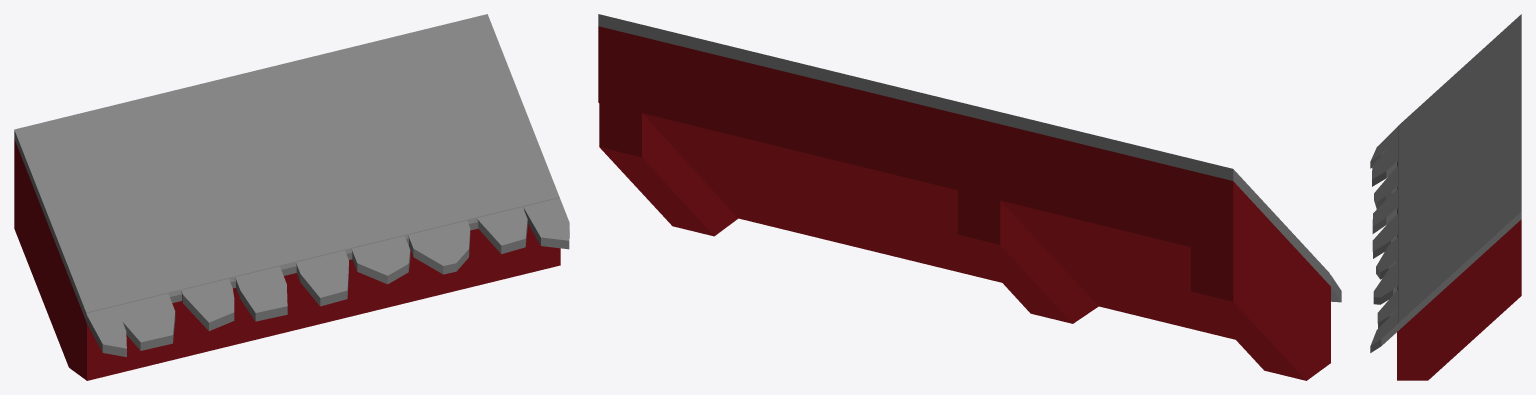
The model's file is SM_MH_01_Slate_Roof_End_Half_01.fbx.
3 views of the same model, side by side, from view 1: azimuth 30°, elevation 25°; view 2: azimuth 150°, elevation 25°; view 3: azimuth 270°, elevation 25° (orthographic). The views are drawn at different scales.
Visible parts, largest first — view 1: SM_MH_01_Slate_Roof_End_Half_01_LOD0; view 2: SM_MH_01_Slate_Roof_End_Half_01_LOD0; view 3: SM_MH_01_Slate_Roof_End_Half_01_LOD0.
Part boxes in pixels (x1,y1,x2,y2): SM_MH_01_Slate_Roof_End_Half_01_LOD0: (14, 14, 569, 380); SM_MH_01_Slate_Roof_End_Half_01_LOD0: (598, 14, 1341, 380); SM_MH_01_Slate_Roof_End_Half_01_LOD0: (1370, 14, 1521, 380).
Size of what is drawn, in the model's own units: 150 by 60 by 48.46.
